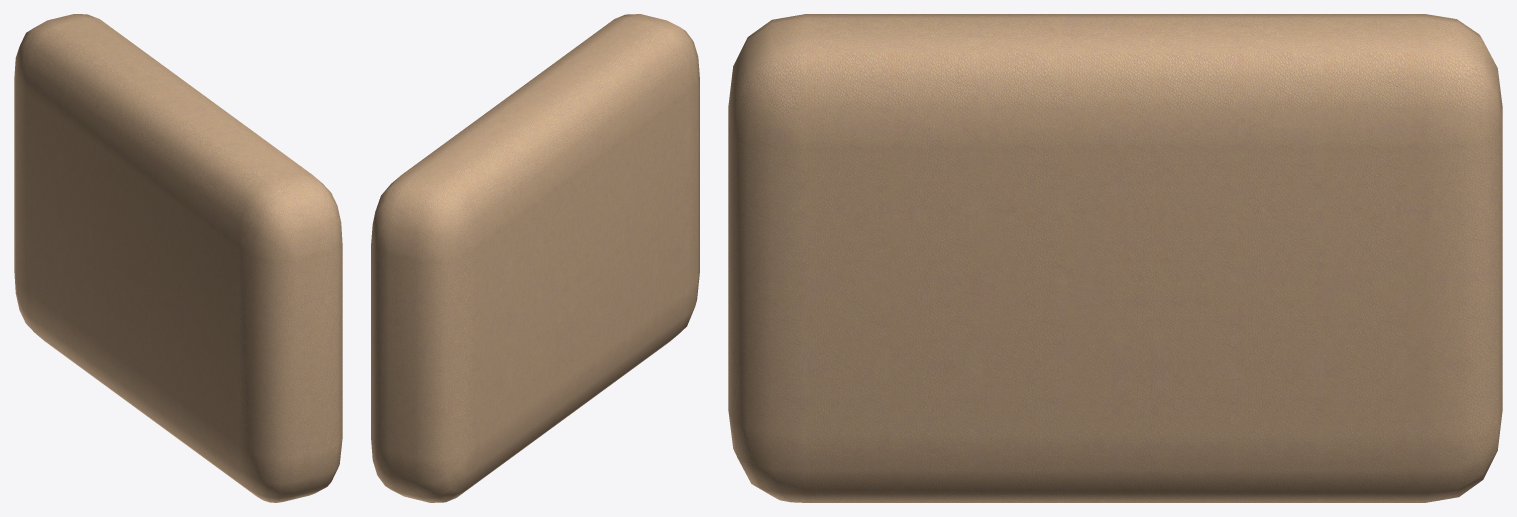
File: SM_咨询室_沙发组件_001.fbx
The picture shows the model from 3 angles, left to right: view 1: azimuth 30°, elevation 25°; view 2: azimuth 150°, elevation 25°; view 3: azimuth 270°, elevation 25°; orthographic projection. The views are drawn at different scales.
Parts seen in each view (by area): view 1: SM_咨询室_沙发组件_001; view 2: SM_咨询室_沙发组件_001; view 3: SM_咨询室_沙发组件_001.
Boxes of the visible parts, box(x1,y1,x2,y2) form: SM_咨询室_沙发组件_001: box(14, 14, 342, 502); SM_咨询室_沙发组件_001: box(371, 14, 699, 502); SM_咨询室_沙发组件_001: box(728, 14, 1502, 502).
Size of the model in its own units: 299 by 984 by 1499.
